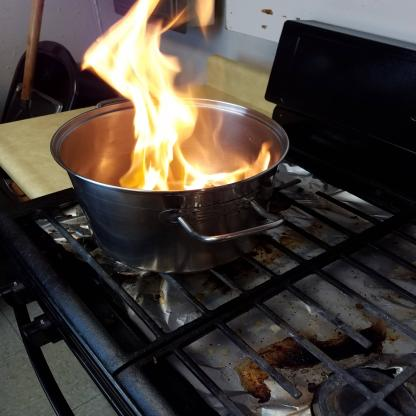fire: (79, 0, 273, 198)
